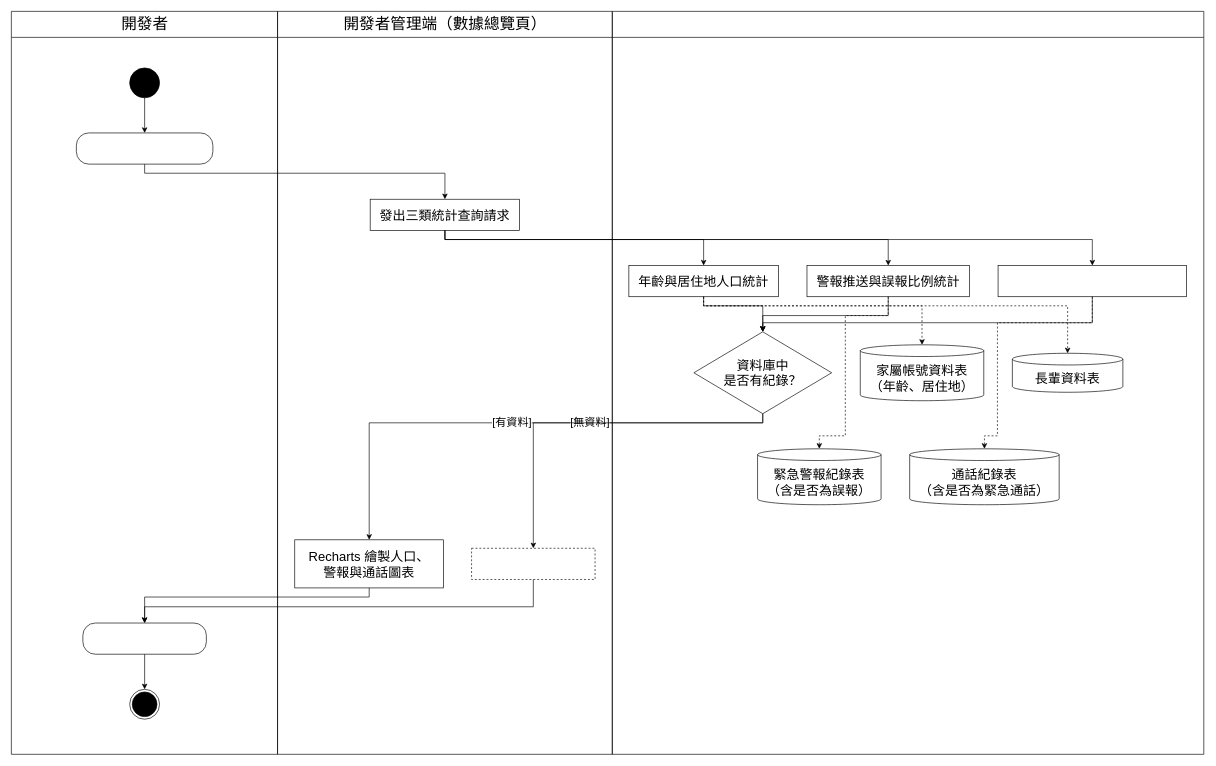
Some shapes in this 1216 by 766 pixel diagram are drawn without their labels. Each missing label, with the box of its shape:
uban-api 後端（統計 API）: (612, 11, 1204, 754)
檢視三類統計圖表: (82, 622, 206, 654)
登入後進入數據總覽: (76, 132, 213, 164)
緊急通話與一般通話次數統計: (997, 265, 1187, 297)
顯示『尚無資料』: (471, 548, 595, 579)
